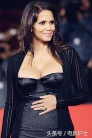female: (23, 4, 62, 51)
